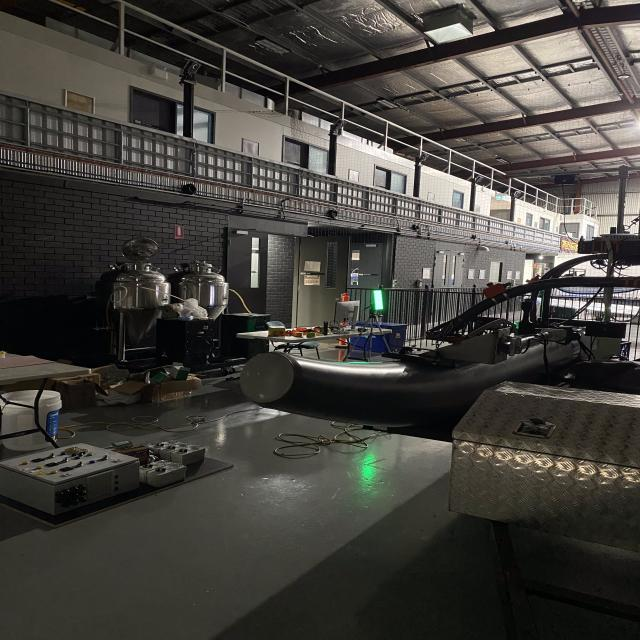matrix: (372, 289, 386, 311)
